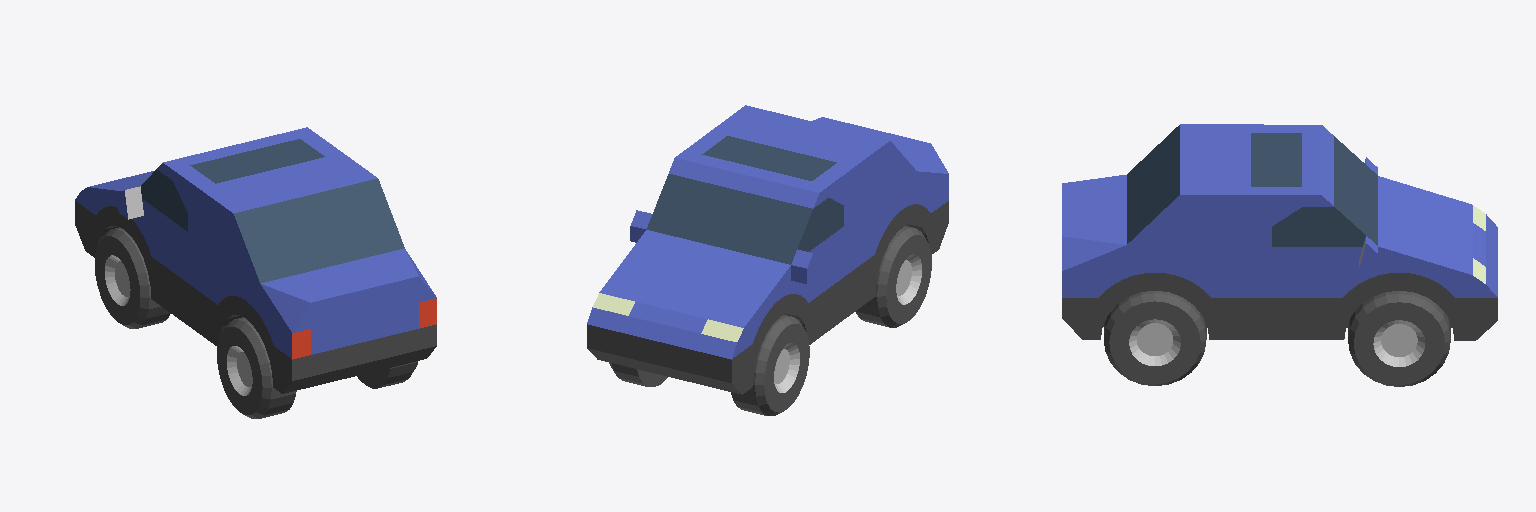
The model's file is carLuxury.obj.
3 renders of one model, left to right at view 1: azimuth 30°, elevation 25°; view 2: azimuth 150°, elevation 25°; view 3: azimuth 270°, elevation 25°, orthographic.
Visible parts, largest first — view 1: body 5, wheelBackLeft 5, wheelFrontLeft 5, wheelBackRight 5; view 2: body 5, wheelBackLeft 5, wheelFrontLeft 5, wheelFrontRight 5; view 3: body 5, wheelFrontRight 5, wheelBackRight 5.
Boxes of the visible parts, box(x1,y1,x2,y2) form: body 5: box(75, 127, 436, 393); wheelBackLeft 5: box(217, 317, 296, 418); wheelFrontLeft 5: box(95, 227, 170, 328); wheelBackRight 5: box(357, 361, 417, 388); body 5: box(587, 105, 948, 394); wheelBackLeft 5: box(855, 226, 931, 327); wheelFrontLeft 5: box(731, 315, 809, 415); wheelFrontRight 5: box(609, 362, 667, 386); body 5: box(1062, 124, 1497, 340); wheelFrontRight 5: box(1348, 291, 1450, 386); wheelBackRight 5: box(1104, 291, 1206, 385).
Bounding box in the file's own units: 8.88 × 9.29 × 18.96.